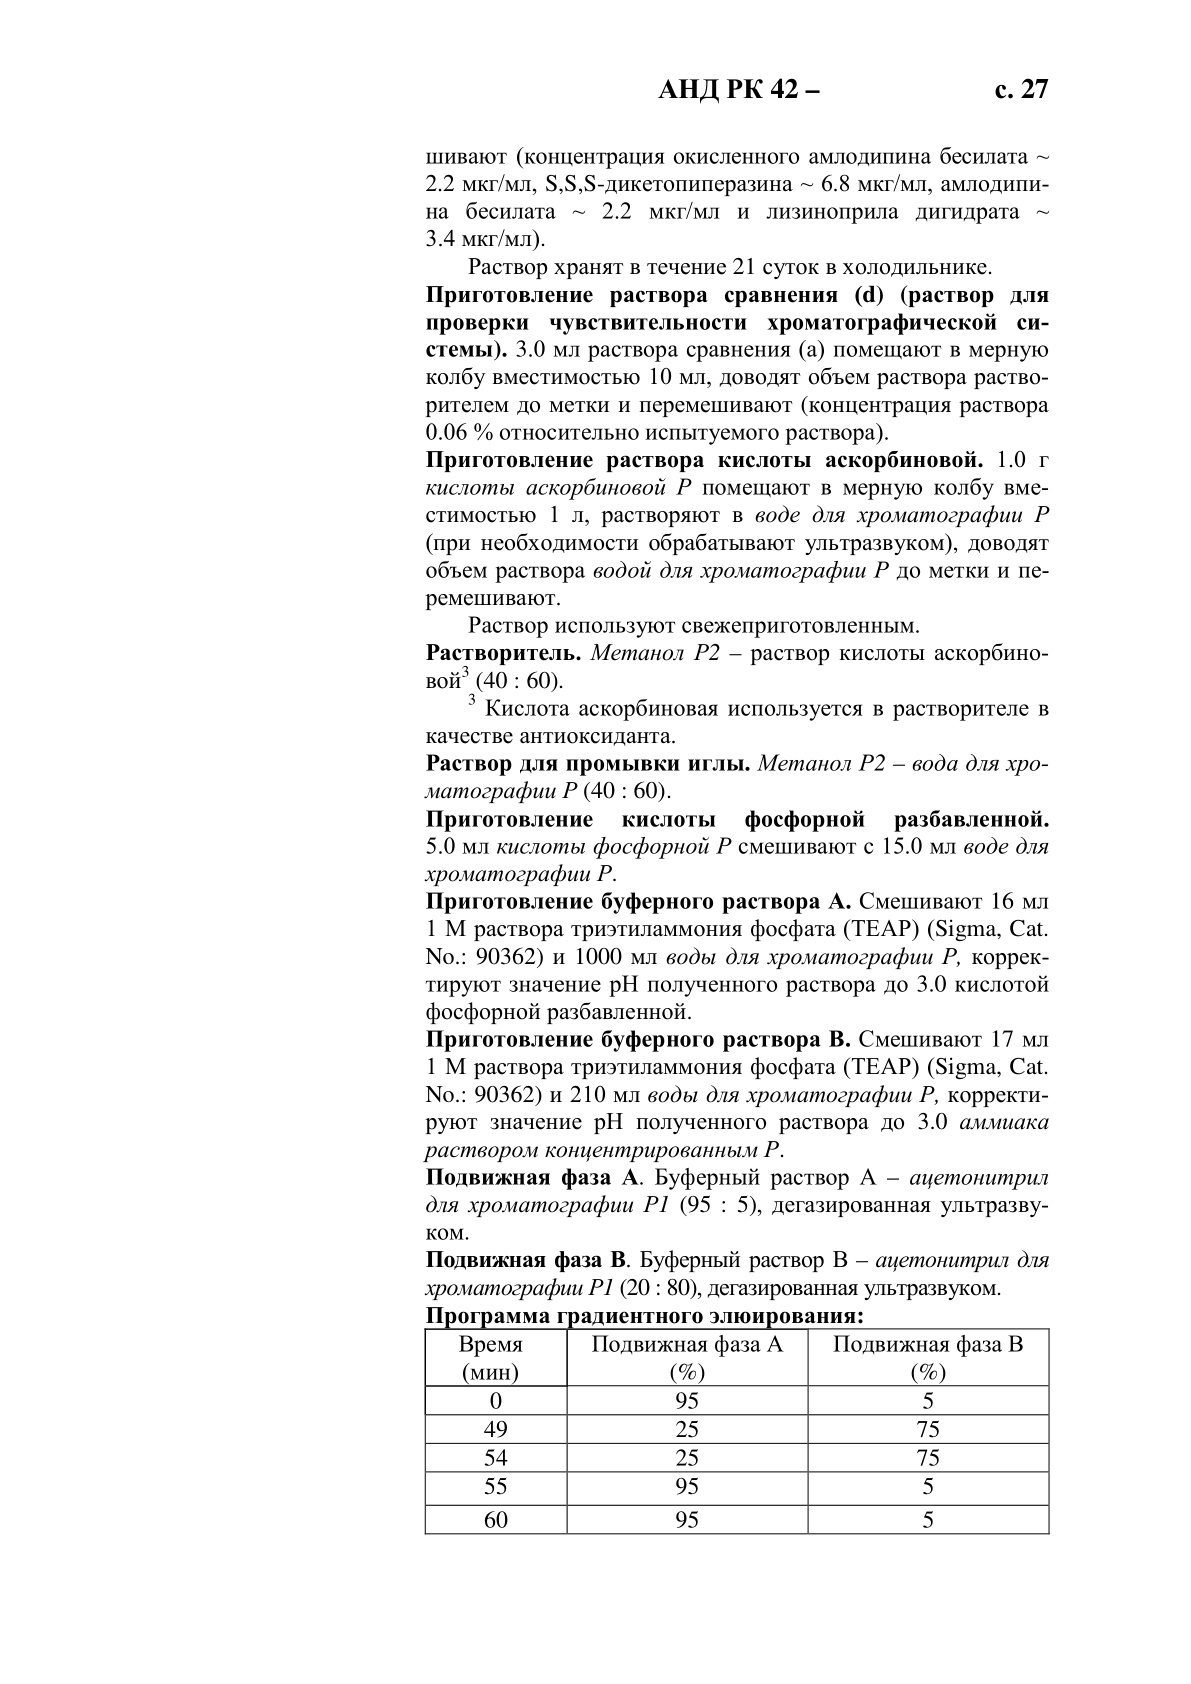full_lined: (424, 1328, 1051, 1535)
